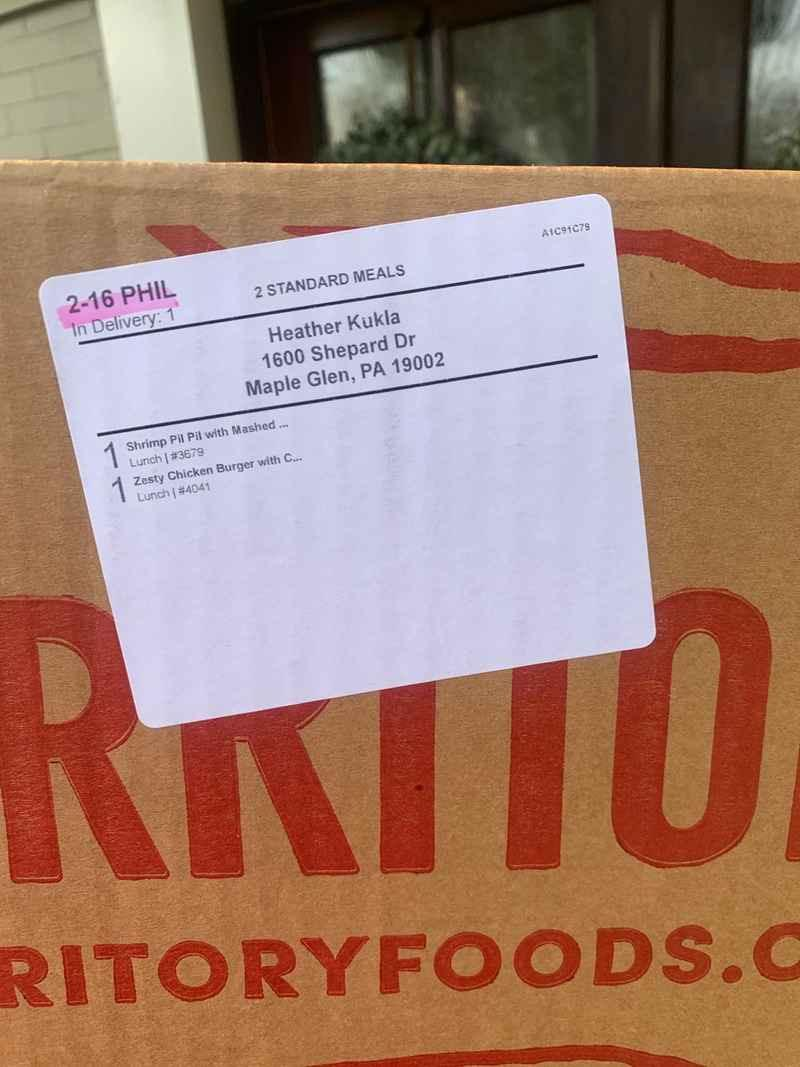package: (2, 164, 800, 1067)
